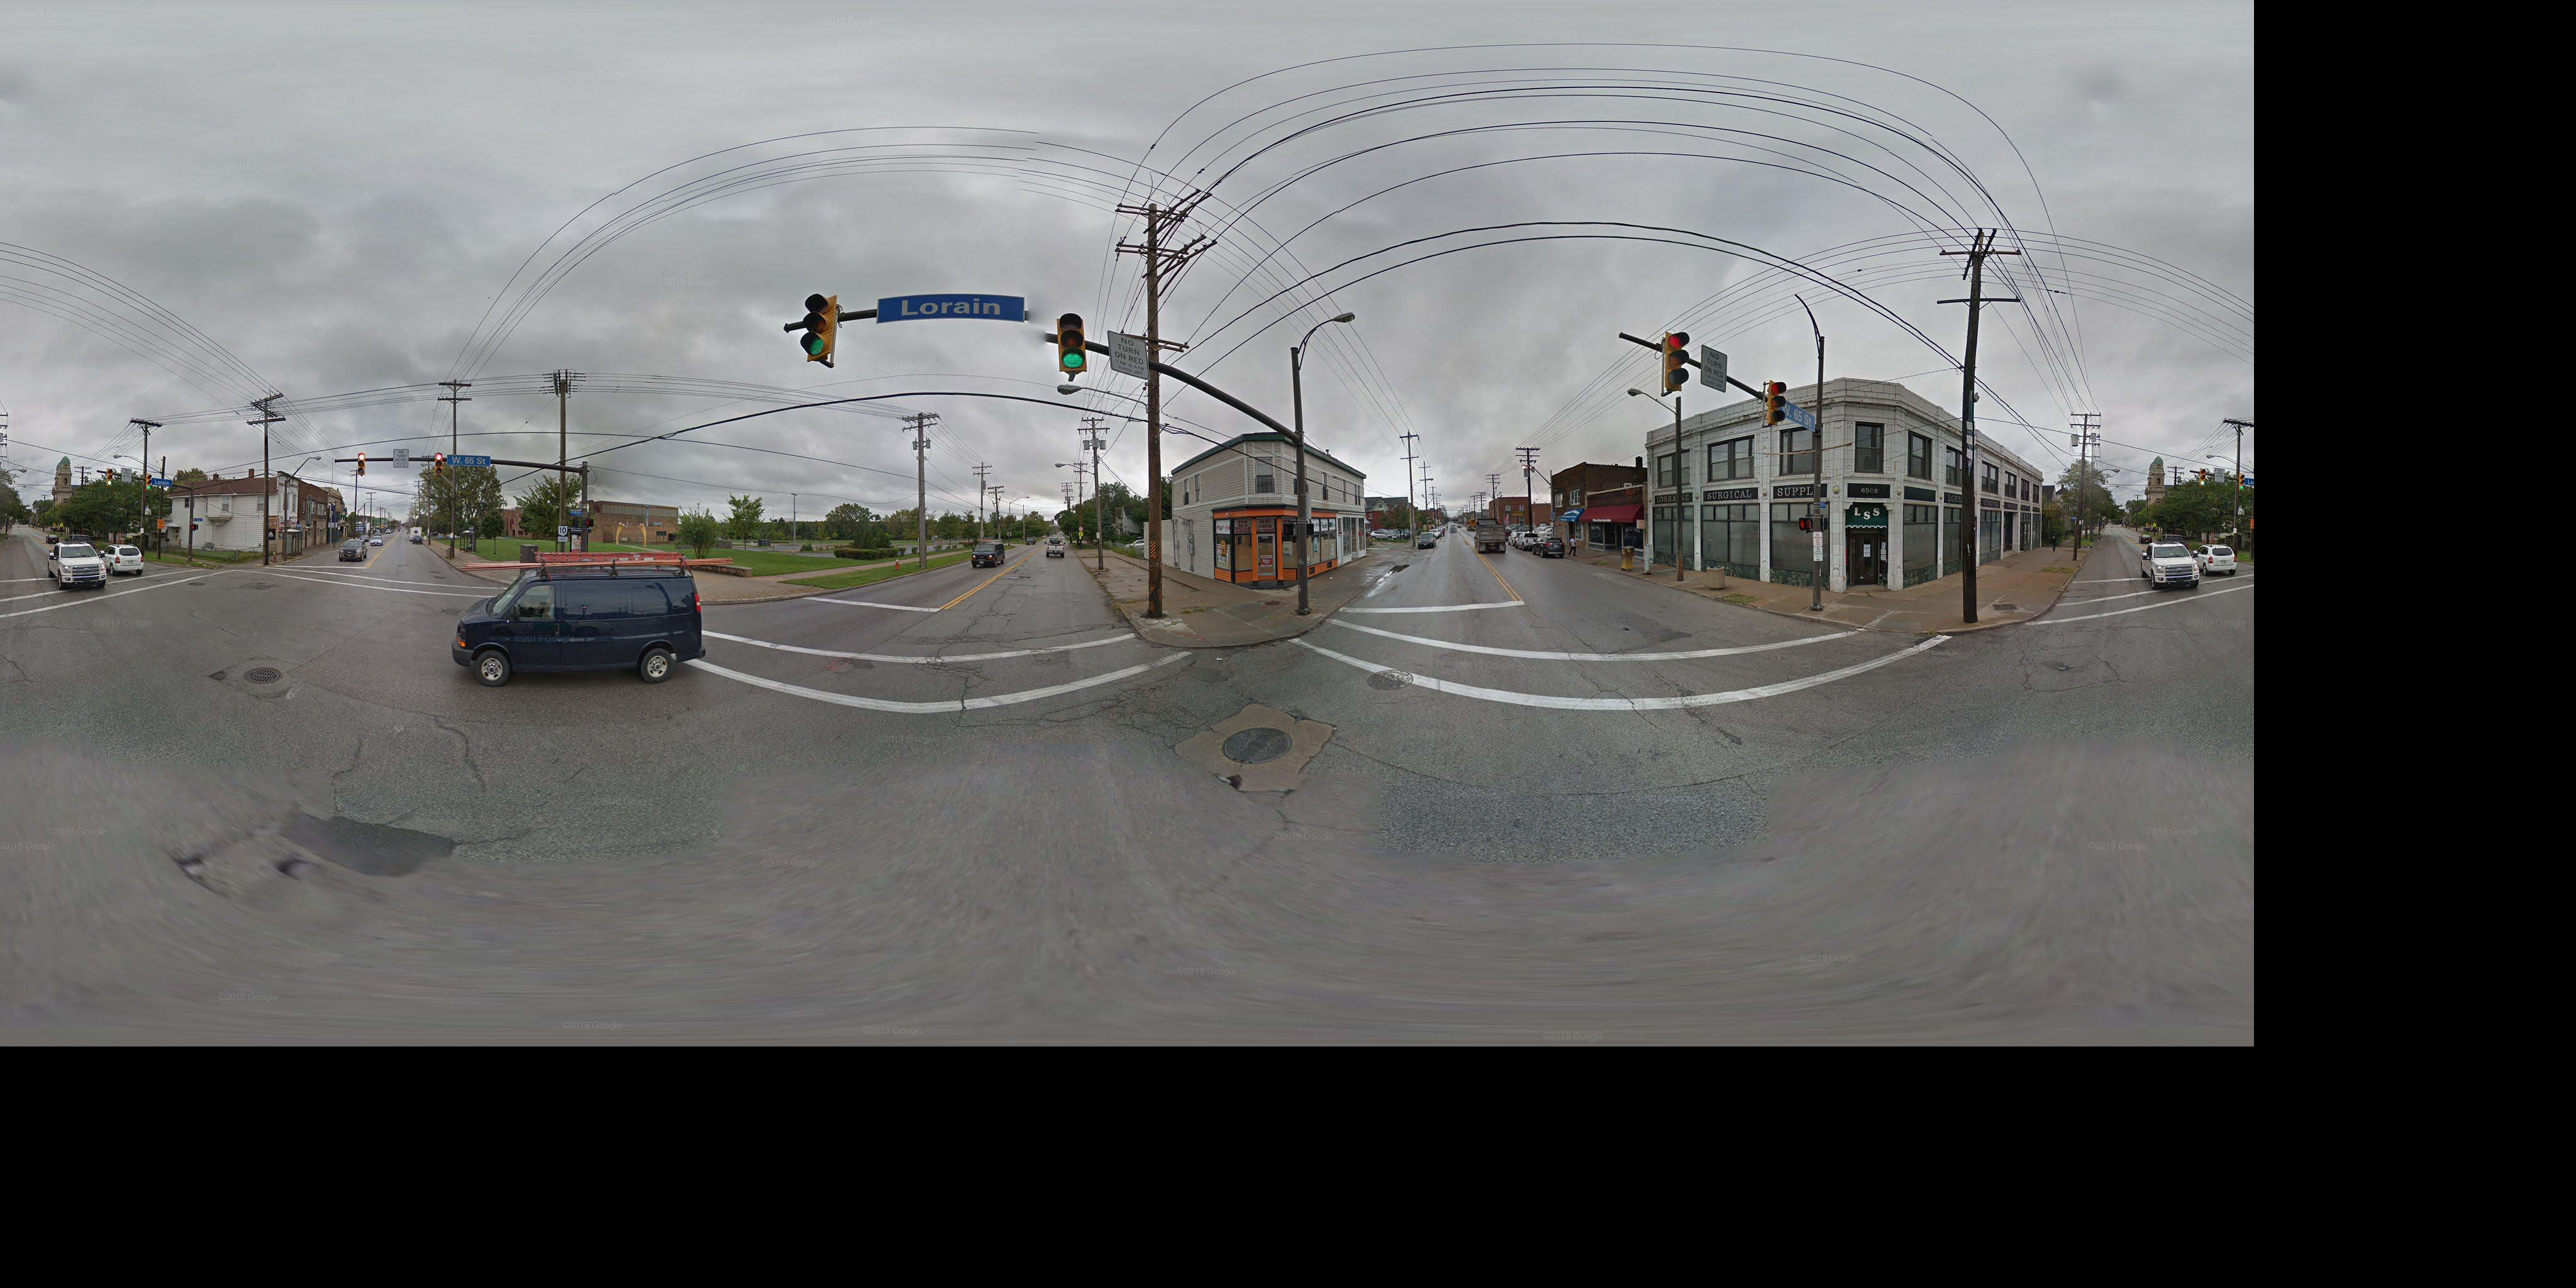Blocked Ramp: (204, 555, 230, 572)
Curb Ramp: (1861, 606, 1919, 641), (237, 562, 263, 575)
Irregular Ramp: (1137, 611, 1193, 662), (1265, 609, 1331, 641), (2006, 593, 2060, 628)
